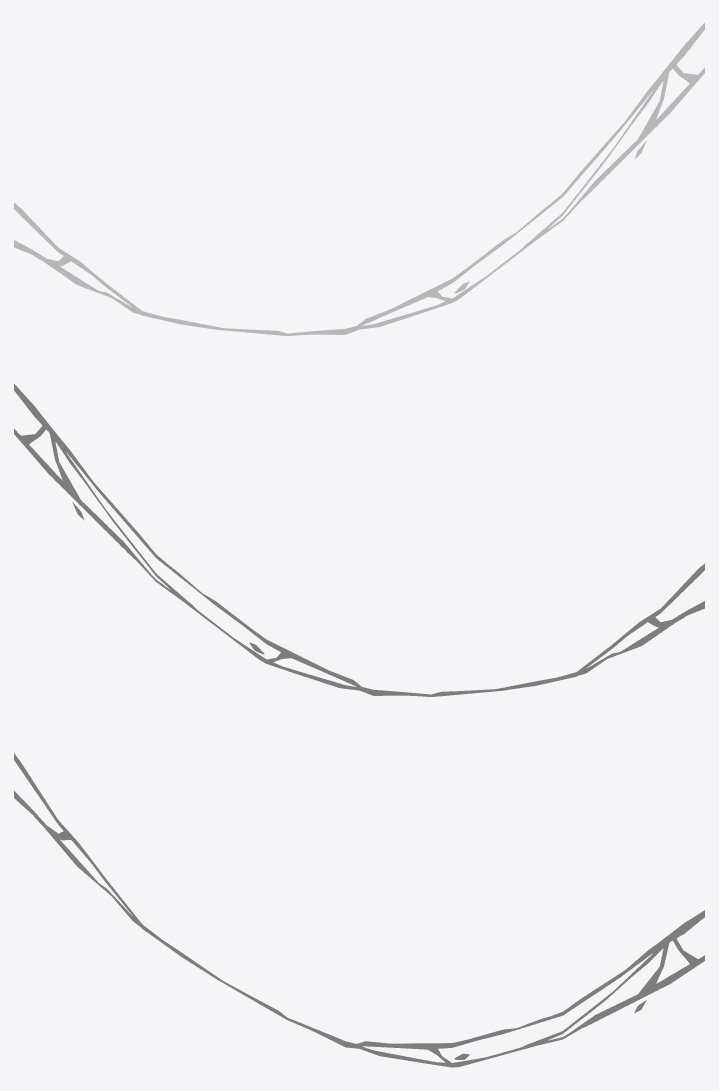
File: SM_Env_SpiderWeb_05.fbx
3 views of the same model, one above another, from view 1: azimuth 30°, elevation 25°; view 2: azimuth 150°, elevation 25°; view 3: azimuth 330°, elevation 25° (orthographic).
Visible parts, largest first — view 1: SM_Env_SpiderWeb_05; view 2: SM_Env_SpiderWeb_05; view 3: SM_Env_SpiderWeb_05.
Boxes of the visible parts, box(x1,y1,x2,y2) form: SM_Env_SpiderWeb_05: box(14, 22, 704, 335); SM_Env_SpiderWeb_05: box(14, 383, 704, 696); SM_Env_SpiderWeb_05: box(14, 753, 704, 1067).
Size of the model in its own units: 157 by 53.36 by 0.
